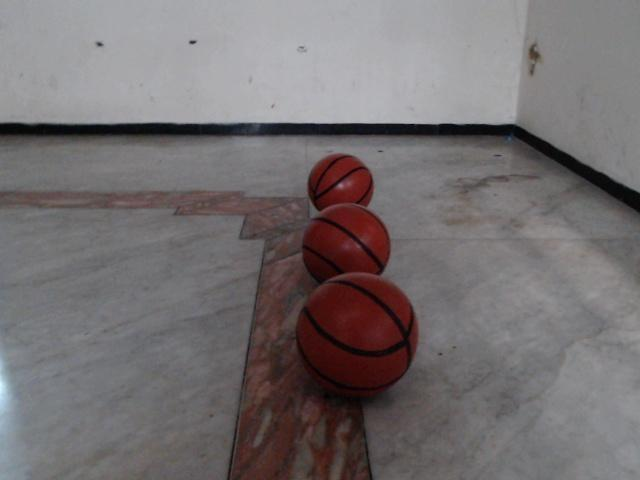Sports-Ball: (300, 280, 425, 387), (299, 200, 397, 287), (303, 152, 377, 216)
